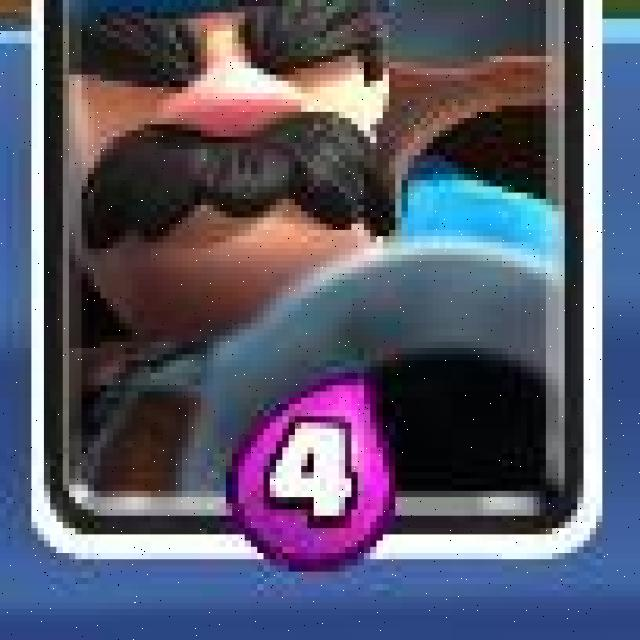Hunter: (24, 0, 600, 564)
